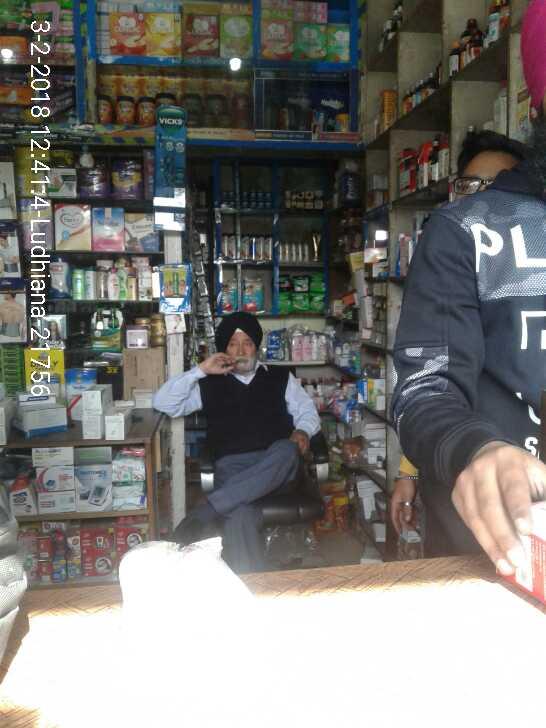vicks: (218, 190, 277, 210), (162, 152, 186, 190)
